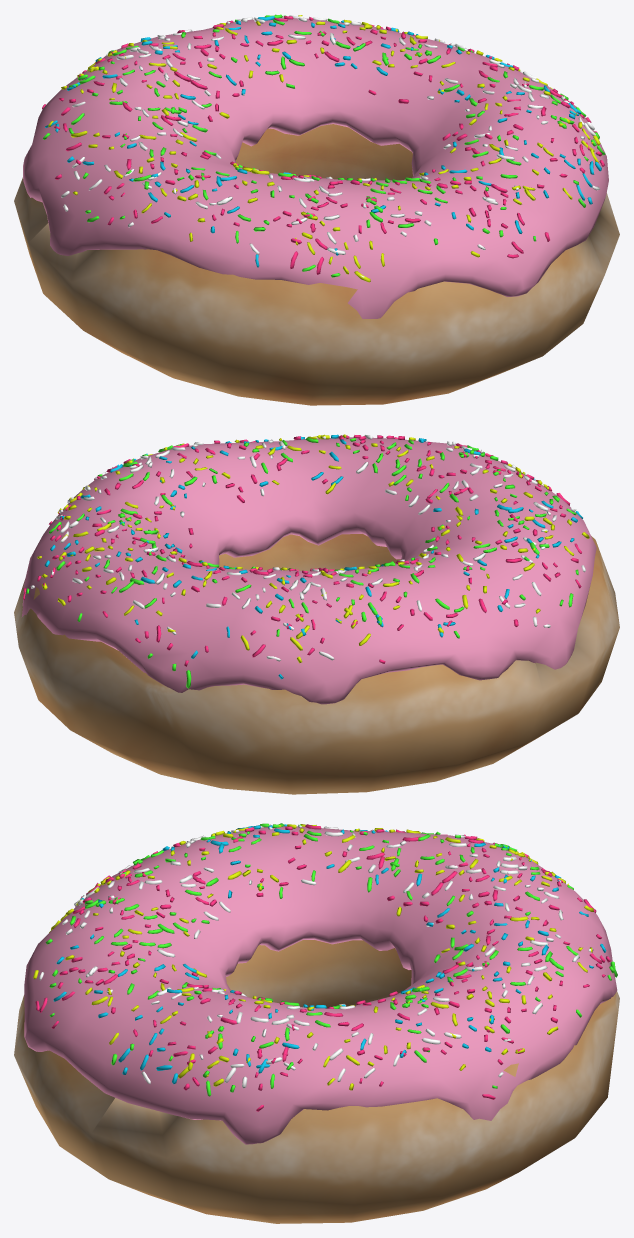
The model's file is donut.glb.
The picture shows the model from 3 angles, top to bottom: view 1: azimuth 30°, elevation 25°; view 2: azimuth 150°, elevation 25°; view 3: azimuth 270°, elevation 25°; orthographic projection.
Visible parts, largest first — view 1: donut; view 2: donut; view 3: donut.
Part boxes in pixels (box(x1,y1,x2,y2)): donut: box(14, 14, 619, 405); donut: box(14, 434, 619, 794); donut: box(14, 823, 619, 1223).
Bounding box in the file's own units: 0.2365 × 0.0955 × 0.2329.
Materials: 3 (2 with a texture image).
